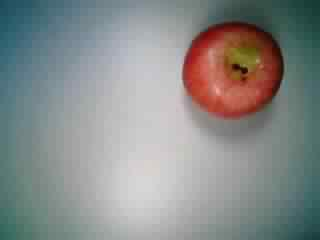apple: (181, 20, 285, 121)
